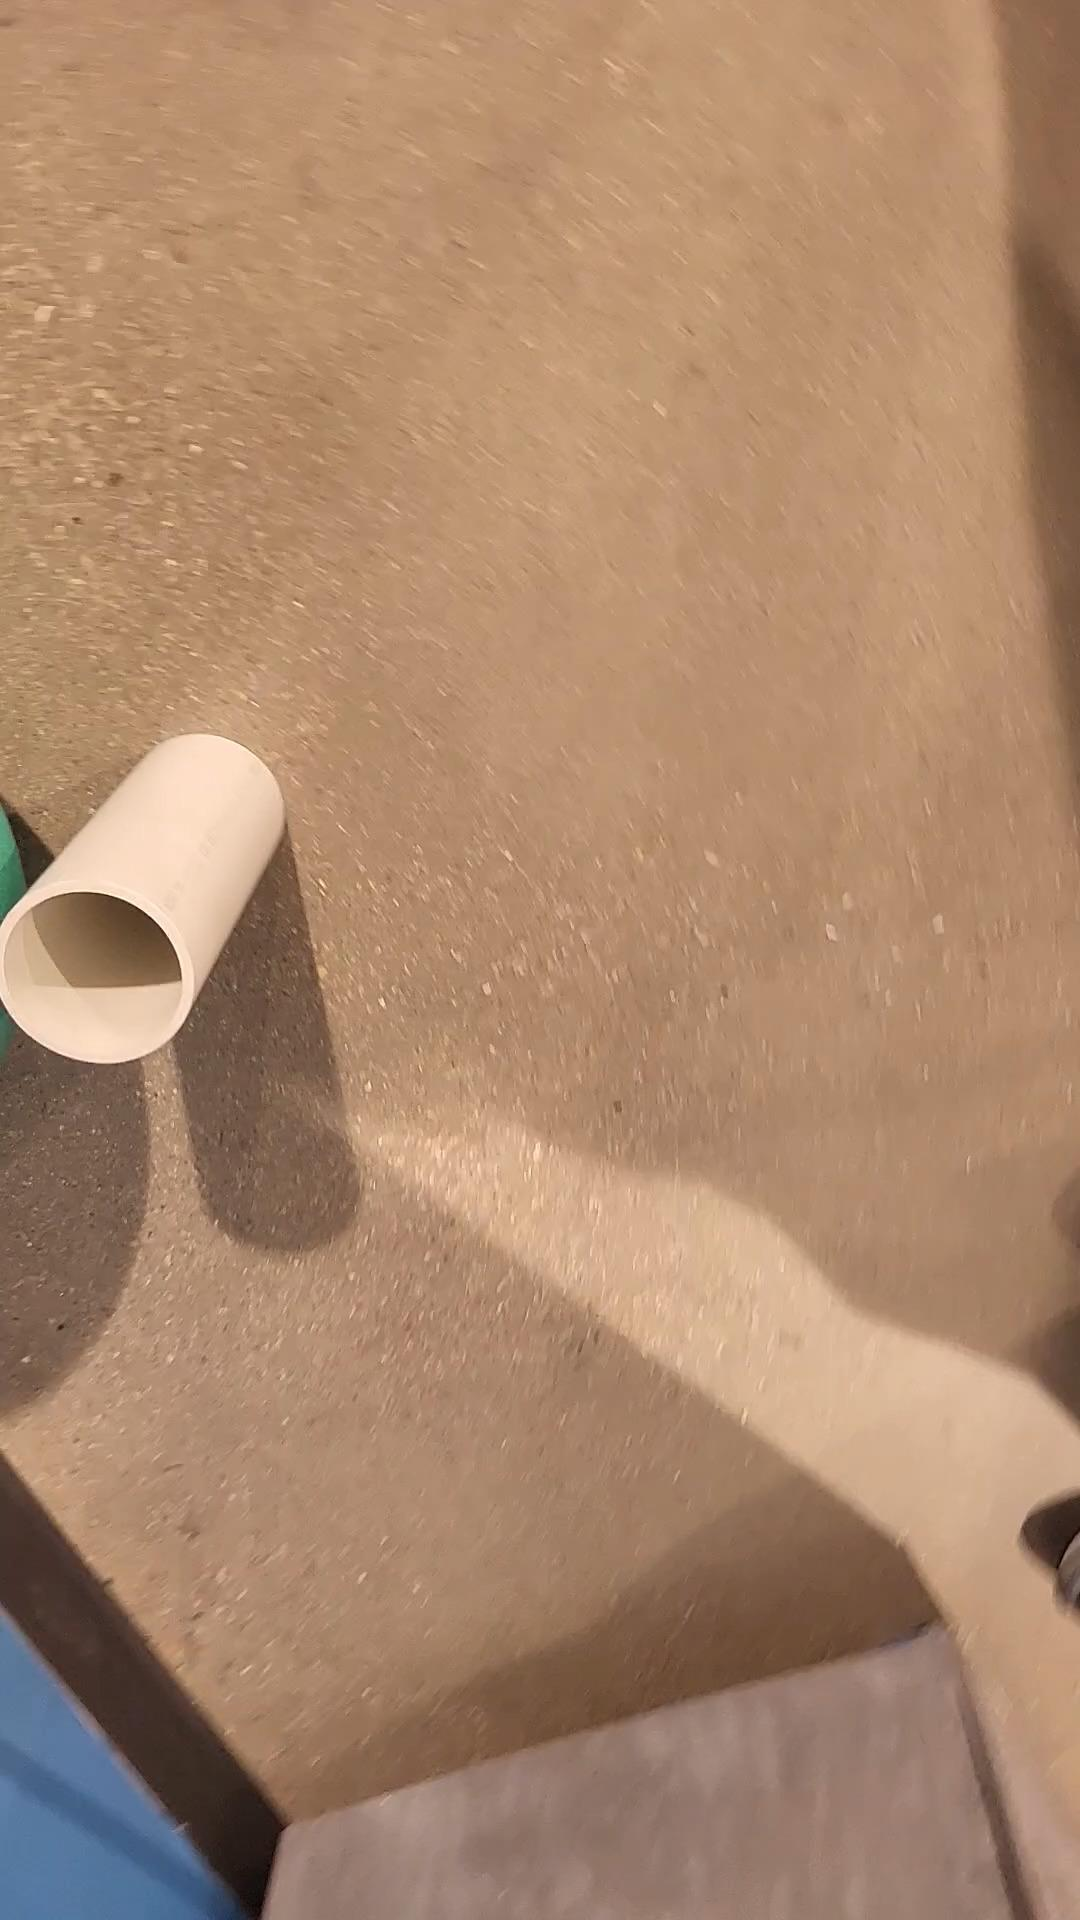coral: (0, 732, 287, 1063)
